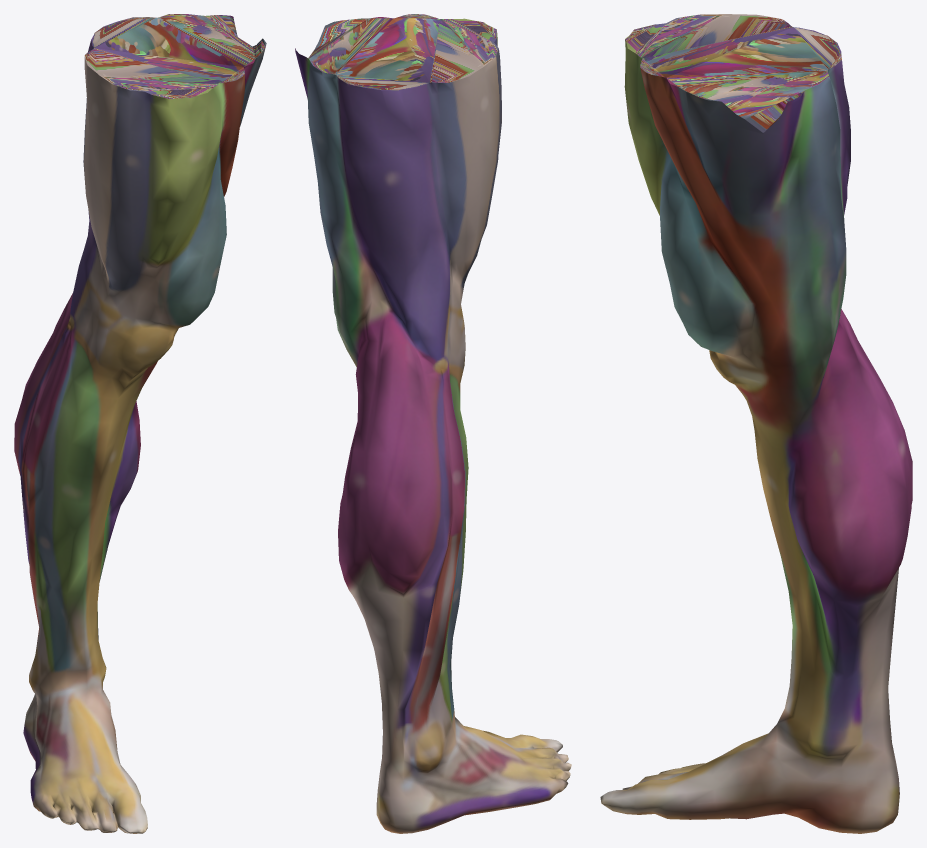
Rendered from derived-anatomy-right-leg.glb.
3 views of the same model, side by side, from view 1: azimuth 30°, elevation 25°; view 2: azimuth 150°, elevation 25°; view 3: azimuth 270°, elevation 25° (orthographic). The views are drawn at different scales.
Visible parts, largest first — view 1: derived-anatomy-right-leg; view 2: derived-anatomy-right-leg; view 3: derived-anatomy-right-leg.
Part boxes in pixels (bbox=[...]): derived-anatomy-right-leg: bbox=[14, 14, 266, 833]; derived-anatomy-right-leg: bbox=[295, 14, 571, 833]; derived-anatomy-right-leg: bbox=[600, 14, 912, 833].
Bounding box in the file's own units: 0.2668 × 0.8 × 0.2814.
1 material, 1 textured.
